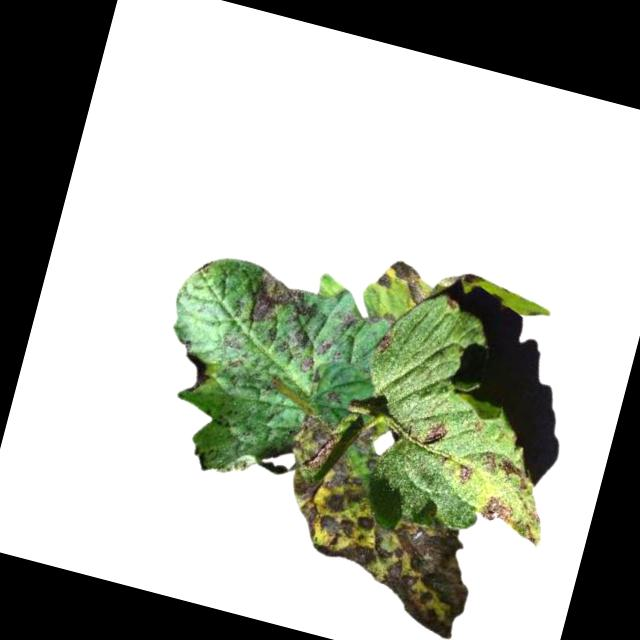Early_blight: (259, 414, 502, 640), (243, 265, 325, 346), (373, 256, 435, 308), (479, 446, 535, 487), (177, 348, 215, 397), (477, 493, 514, 525), (421, 418, 450, 448), (374, 330, 396, 355), (455, 463, 474, 485), (315, 334, 334, 356), (298, 355, 315, 374)
